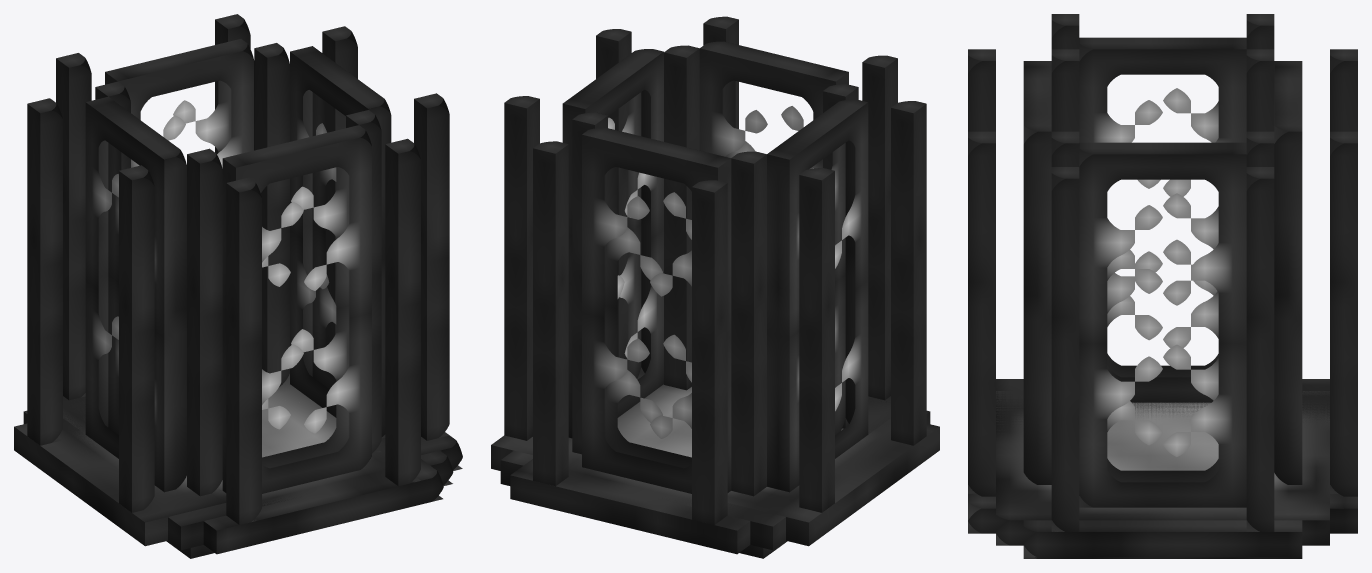
The model's file is reactor_cell_bottom.obj.
3 renders of one model, left to right at view 1: azimuth 30°, elevation 25°; view 2: azimuth 150°, elevation 25°; view 3: azimuth 270°, elevation 25°, orthographic. The views are drawn at different scales.
Visible parts, largest first — view 1: MiddlePBack, MiddlePRight, MiddlePLeft, BaseDepth, OPLeftFront1, OPBackLeft, OPBackRight, MiddleBackRight, OPRightBack, OPLeftBack, MiddlePFront, BaseWidth (+7 smaller); view 2: MiddlePFront, MiddlePRight, MiddlePLeft, BaseDepth, OPFrontRight, OPFrontLeft, MiddleFrontRight, OPRightBack, OPLeftFront1, OPLeftFront, MiddlePBack, BaseWidth (+7 smaller); view 3: MiddlePLeft, MiddlePRight, Base.001, MiddlePFront, MiddlePBack, OPLeftBack, OPLeftFront, OPFrontLeft, OPBackLeft, BaseWidth, BaseDepth, MiddleFrontRight (+8 smaller).
Part boxes in pixels (x1=…): MiddlePBack: x1=222, y1=125, x2=371, y2=493; MiddlePRight: x1=85, y1=96, x2=186, y2=492; MiddlePLeft: x1=290, y1=46, x2=391, y2=438; BaseDepth: x1=63, y1=374, x2=443, y2=554; OPLeftFront1: x1=27, y1=98, x2=62, y2=445; OPBackLeft: x1=385, y1=138, x2=420, y2=486; OPBackRight: x1=226, y1=177, x2=261, y2=524; MiddleBackRight: x1=187, y1=148, x2=222, y2=496; OPRightBack: x1=119, y1=165, x2=154, y2=512; OPLeftBack: x1=414, y1=93, x2=449, y2=440; MiddlePFront: x1=105, y1=39, x2=254, y2=168; BaseWidth: x1=14, y1=419, x2=462, y2=546; MiddlePFront: x1=582, y1=128, x2=731, y2=493; MiddlePRight: x1=767, y1=99, x2=868, y2=492; MiddlePLeft: x1=562, y1=49, x2=663, y2=438; BaseDepth: x1=510, y1=384, x2=890, y2=554; OPFrontRight: x1=692, y1=180, x2=727, y2=524; OPFrontLeft: x1=533, y1=141, x2=568, y2=486; MiddleFrontRight: x1=731, y1=151, x2=766, y2=496; OPRightBack: x1=891, y1=101, x2=926, y2=445; OPLeftFront1: x1=799, y1=168, x2=834, y2=512; OPLeftFront: x1=504, y1=96, x2=539, y2=440; MiddlePBack: x1=699, y1=41, x2=848, y2=168; BaseWidth: x1=491, y1=369, x2=939, y2=546; MiddlePLeft: x1=1079, y1=142, x2=1246, y2=507; MiddlePRight: x1=1079, y1=37, x2=1246, y2=402; Base.001: x1=996, y1=379, x2=1329, y2=545; MiddlePFront: x1=1274, y1=61, x2=1302, y2=484; MiddlePBack: x1=1023, y1=61, x2=1051, y2=484; OPLeftBack: x1=1051, y1=167, x2=1079, y2=531; OPLeftFront: x1=1246, y1=167, x2=1274, y2=531; OPFrontLeft: x1=1330, y1=131, x2=1357, y2=496; OPBackLeft: x1=968, y1=131, x2=995, y2=496; BaseWidth: x1=1023, y1=403, x2=1302, y2=557; BaseDepth: x1=968, y1=391, x2=1357, y2=533; MiddleFrontRight: x1=1246, y1=49, x2=1274, y2=131.
Bounding box in the file's own units: 0.875 × 1 × 0.875.
